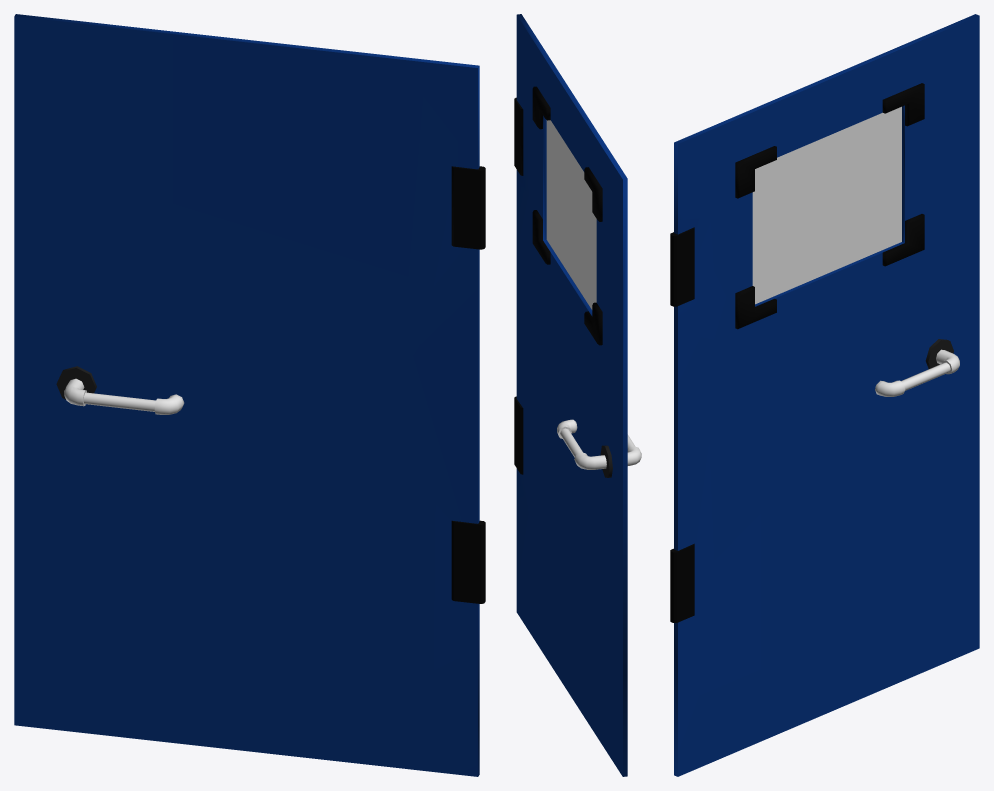
File: Hea_Ba_Door.fbx
3 renders of one model, left to right at view 1: azimuth 30°, elevation 25°; view 2: azimuth 150°, elevation 25°; view 3: azimuth 270°, elevation 25°, orthographic. The views are drawn at different scales.
Parts seen in each view (by area): view 1: Toilet_Heaven_Door, Door_Handle; view 2: Toilet_Heaven_Door, Door_Handle; view 3: Toilet_Heaven_Door, Door_Handle.
Part boxes in pixels (x1,y1,x2,y2): Toilet_Heaven_Door: (14,14,485,776); Door_Handle: (56,366,184,414); Toilet_Heaven_Door: (514,14,627,776); Door_Handle: (557,419,641,477); Toilet_Heaven_Door: (670,14,979,776); Door_Handle: (875,339,959,396).
Bounding box in the file's own units: 89.38 × 200 × 88.66.
